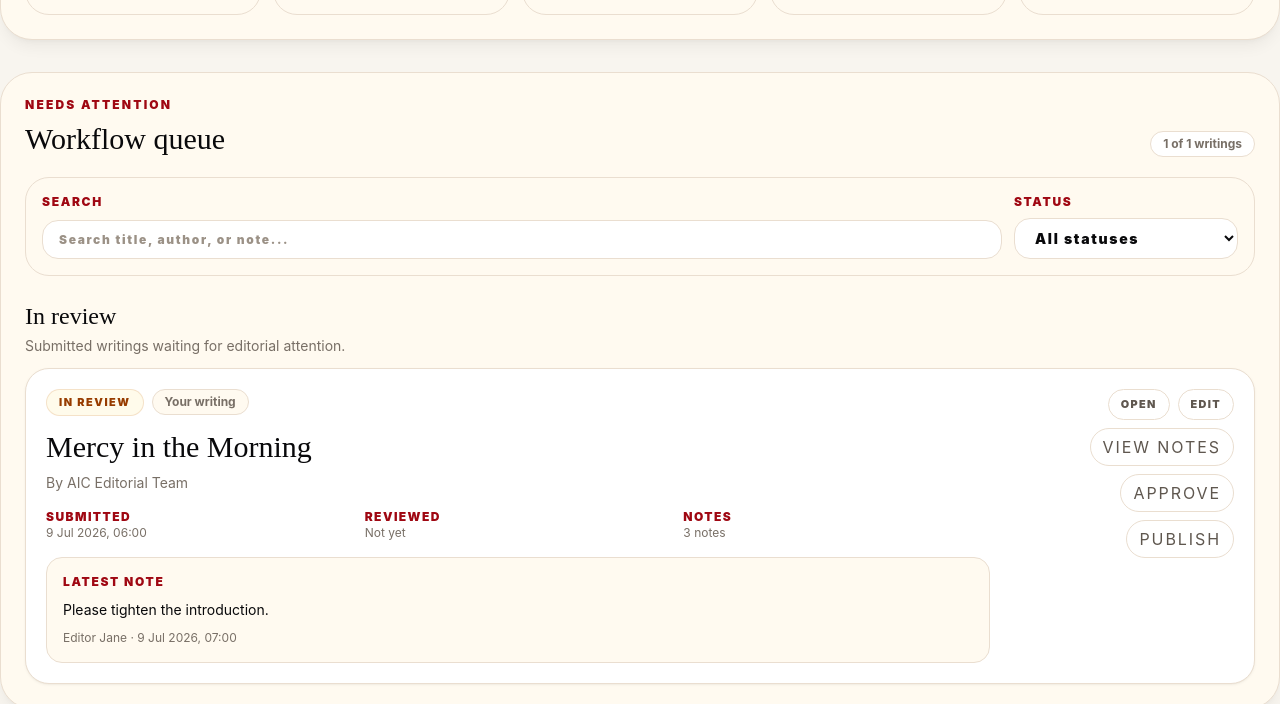
WritingEditorialPage › shows a friendly approval error and refreshes stale queue state
This screenshot has width=1280, height=704.
(page scrolled)
Click the button "Approve": (1177, 493) [1120,474,1234,512]
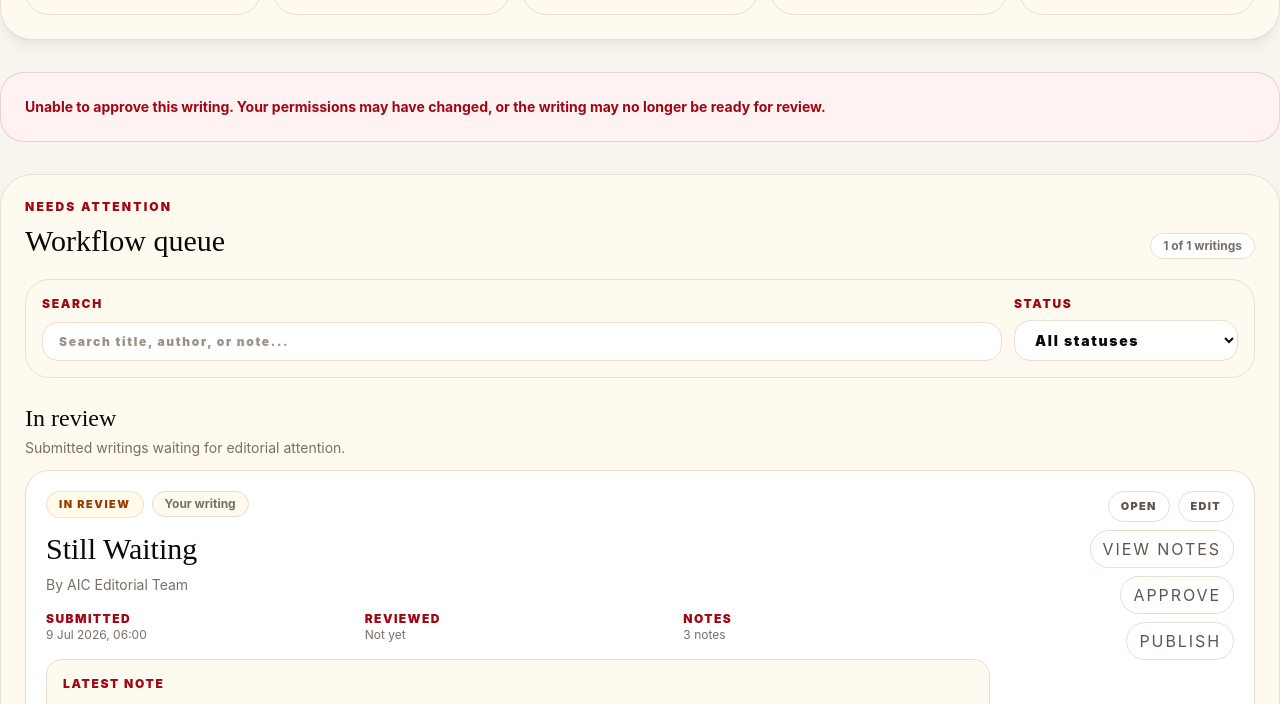
Expected: the text "Unable to approve this writing." is shown, [25,98,826,115]
Expected: the text "Still Waiting" is shown, [46,532,197,565]
